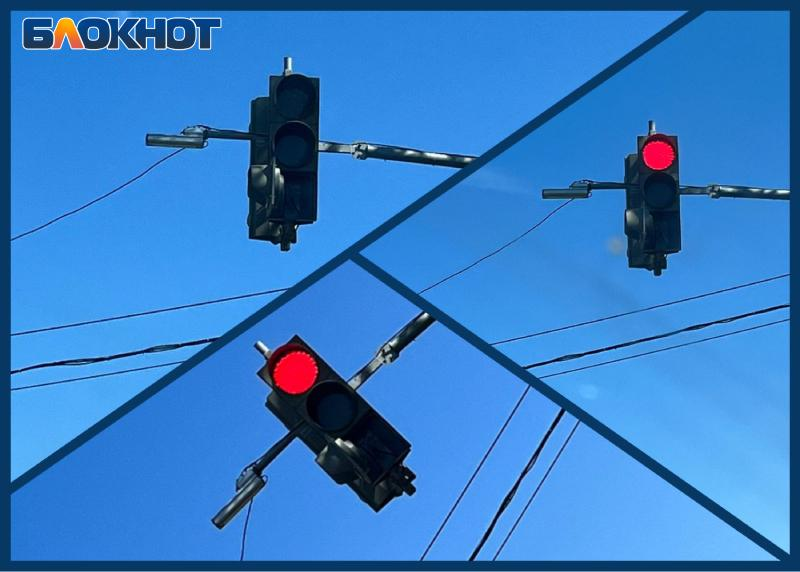off traffic light: (268, 74, 319, 221)
traffic light: (256, 335, 412, 485), (638, 134, 681, 250)
